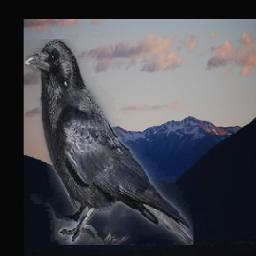Crow: (27, 39, 194, 245)
